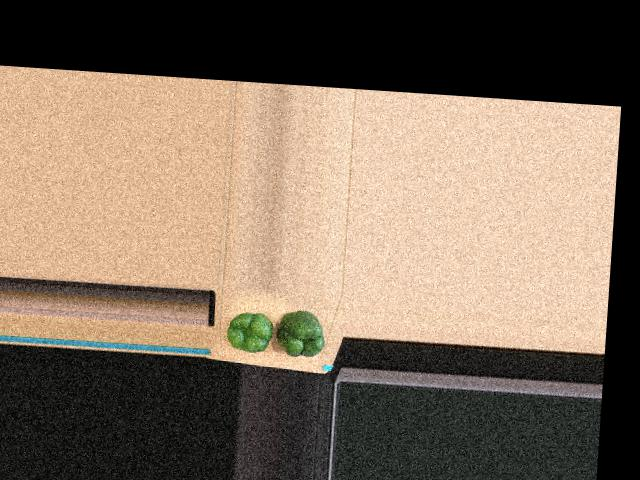bell_pepper: (226, 305, 276, 354)
